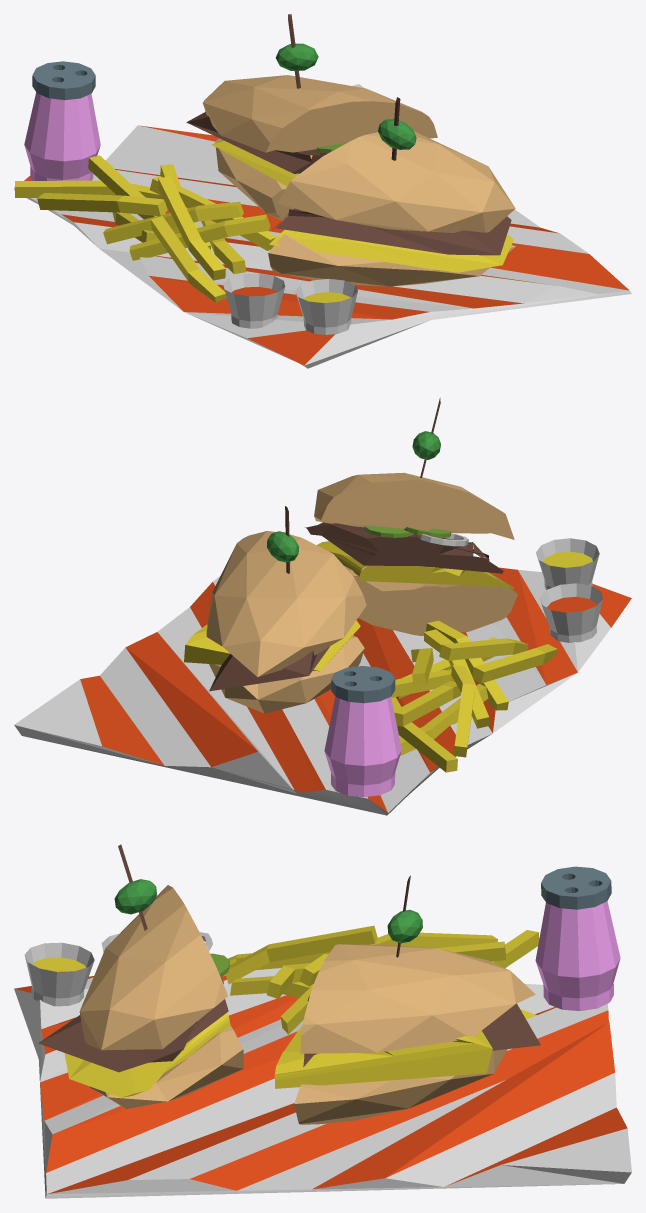
3 renders of one model, top to bottom at view 1: azimuth 30°, elevation 25°; view 2: azimuth 150°, elevation 25°; view 3: azimuth 270°, elevation 25°, orthographic. The views are drawn at different scales.
Visible parts, largest first — view 1: node_MeshObject-941154752-PolyPaper18, node_MeshObject2027079488-PolyGem25; view 2: node_MeshObject-941154752-PolyPaper18, node_MeshObject2027079488-PolyGem25; view 3: node_MeshObject-941154752-PolyPaper18, node_MeshObject2027079488-PolyGem25.
Boxes of the visible parts, x1,y1,x2,y2 form: node_MeshObject-941154752-PolyPaper18: [14, 14, 631, 368]; node_MeshObject2027079488-PolyGem25: [24, 70, 100, 180]; node_MeshObject-941154752-PolyPaper18: [14, 398, 631, 815]; node_MeshObject2027079488-PolyGem25: [324, 697, 401, 797]; node_MeshObject-941154752-PolyPaper18: [14, 844, 631, 1198]; node_MeshObject2027079488-PolyGem25: [535, 893, 620, 1010].
Size of the model in its own units: 0.3654 by 0.1925 by 0.439.
